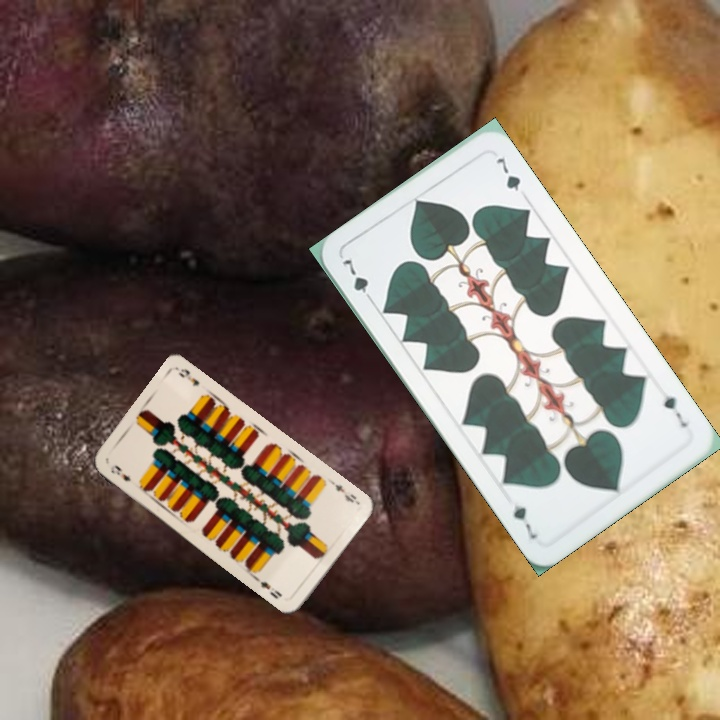E9: (327, 476, 361, 507), (106, 461, 134, 484)
G7: (338, 255, 377, 306), (659, 391, 691, 431)
